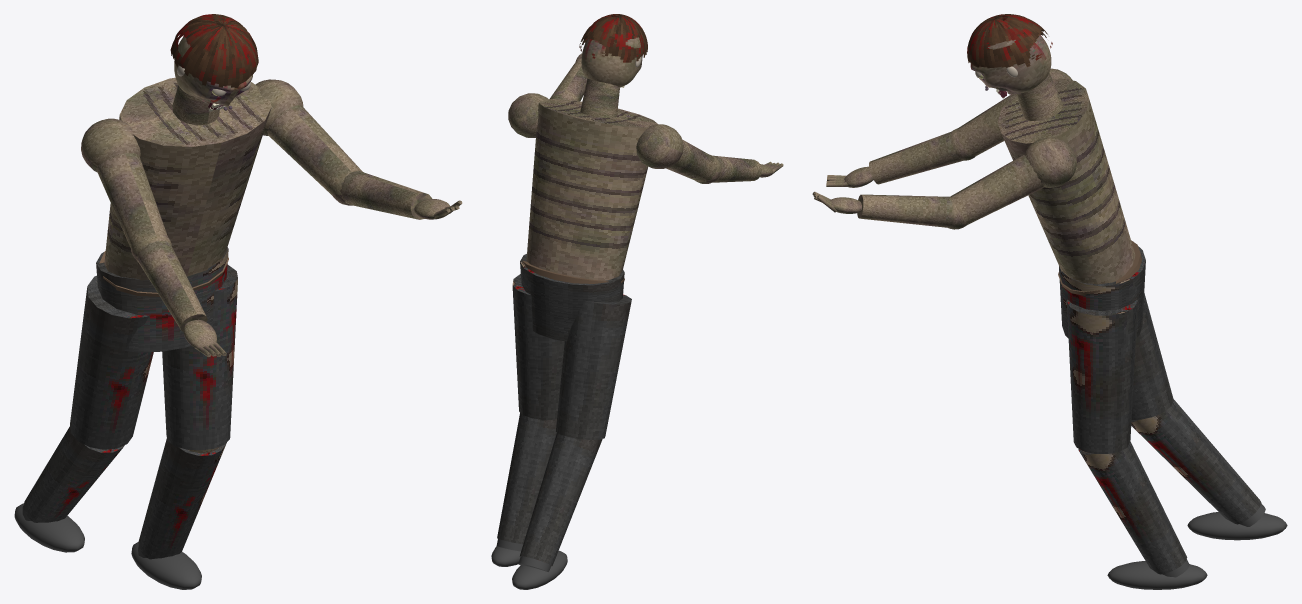
Rendered from Zombie_002.glb.
The picture shows the model from 3 angles, left to right: view 1: azimuth 30°, elevation 25°; view 2: azimuth 150°, elevation 25°; view 3: azimuth 270°, elevation 25°; orthographic projection. The views are drawn at different scales.
Parts seen in each view (by area): view 1: Zombie_002, object 42, object 3, object 10, object 16, object 4; view 2: Zombie_002, object 16, object 42, object 3, object 10; view 3: Zombie_002, object 42, object 10, object 3, object 16.
Part boxes in pixels (box(x1,y1,x2,y2)): Zombie_002: box(14, 77, 361, 589); object 42: box(170, 14, 258, 87); object 3: box(136, 240, 207, 331); object 10: box(340, 170, 432, 219); object 16: box(174, 36, 252, 106); object 4: box(183, 319, 217, 347); Zombie_002: box(491, 78, 717, 589); object 16: box(581, 37, 642, 87); object 42: box(579, 14, 647, 59); object 3: box(713, 155, 761, 182); object 10: box(549, 60, 587, 101); Zombie_002: box(950, 68, 1287, 589); object 42: box(967, 14, 1052, 65); object 10: box(857, 194, 953, 227); object 3: box(869, 131, 962, 184); object 16: box(970, 34, 1051, 94).
Bounding box in the file's own units: 0.7746 × 1.85 × 1.44.
Materials: 16 (6 with a texture image).
